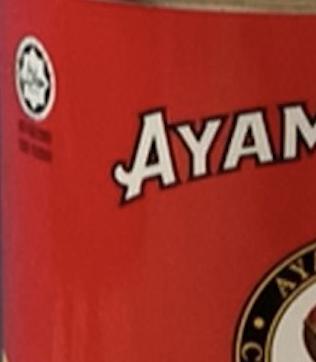halal: (15, 55, 46, 93)
